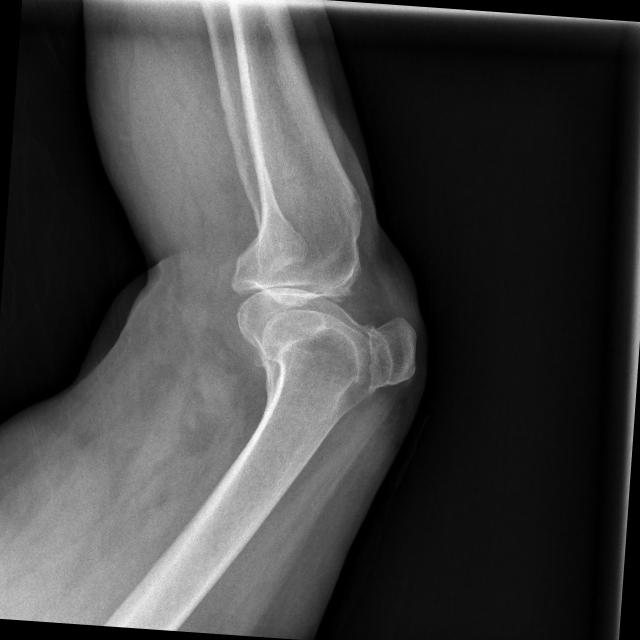Knee: (222, 216, 432, 406)
